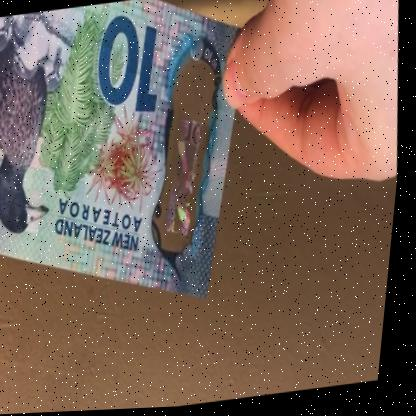10F: (155, 97, 221, 242)
